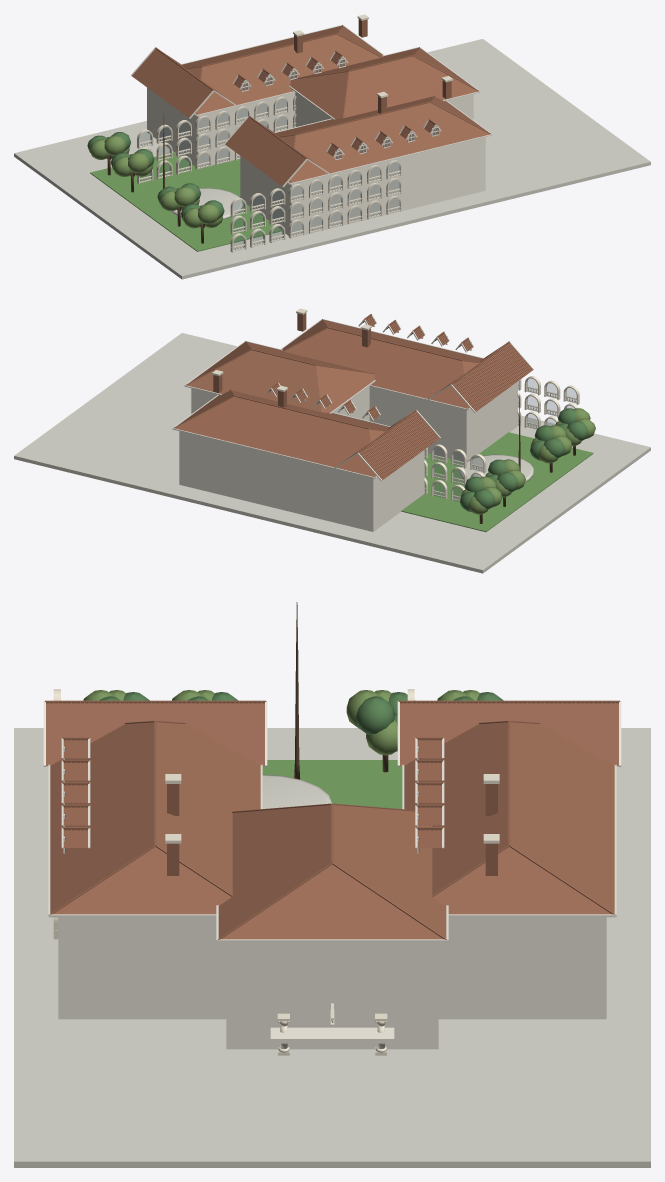
Rendered from galle-face-hotel.glb.
3 views of the same model, one above another, from view 1: azimuth 30°, elevation 25°; view 2: azimuth 150°, elevation 25°; view 3: azimuth 270°, elevation 25° (orthographic). The views are drawn at different scales.
Parts seen in each view (by area): view 1: 01 Seafront grounds, sea wall and pool / Limestone, 04 Victorian hipped roofs, gables and dormers / Terracotta, 03 Ocean wings / South wing / Colonial Cream, 01 Seafront grounds, sea wall and pool / Lawn Green, 04 Victorian hipped roofs, gables and dormers / Terracotta.0, 03 Ocean wings / North wing / Colonial Cream, 03 Ocean wings / South wing / Colonial Buff, 03 Ocean wings / North wing / Colonial Buff, 04 Victorian hipped roofs, gables and dormers / Ivory, 01 Seafront grounds, sea wall and pool / Leaves light, 03 Ocean wings / South wing / Glass shade, 03 Ocean wings / North wing / Glass shade (+5 smaller); view 2: 04 Victorian hipped roofs, gables and dormers / Terracotta, 01 Seafront grounds, sea wall and pool / Limestone, 03 Ocean wings / North wing / Colonial Cream, 01 Seafront grounds, sea wall and pool / Lawn Green, 03 Ocean wings / South wing / Colonial Cream, 04 Victorian hipped roofs, gables and dormers / Terracotta.0, 01 Seafront grounds, sea wall and pool / Leaves, 04 Victorian hipped roofs, gables and dormers / Ivory, 01 Seafront grounds, sea wall and pool / Leaves light, 03 Ocean wings / North wing / Colonial Buff, 03 Ocean wings / South wing / Colonial Buff, 02 Central entrance pavilion and porte-cochere / Colonial Cr (+3 smaller); view 3: 01 Seafront grounds, sea wall and pool / Limestone, 04 Victorian hipped roofs, gables and dormers / Terracotta, 02 Central entrance pavilion and porte-cochere / Colonial Cr, 03 Ocean wings / North wing / Colonial Cream, 03 Ocean wings / South wing / Colonial Cream, 04 Victorian hipped roofs, gables and dormers / Terracotta.0, 04 Victorian hipped roofs, gables and dormers / Ivory, 01 Seafront grounds, sea wall and pool / Lawn Green, 01 Seafront grounds, sea wall and pool / Leaves light, 01 Seafront grounds, sea wall and pool / Leaves, 01 Seafront grounds, sea wall and pool / Limestone.001.
Boxes of the visible parts, x1,y1,x2,y2 form: 01 Seafront grounds, sea wall and pool / Limestone: [14, 39, 650, 279]; 04 Victorian hipped roofs, gables and dormers / Terracotta: [132, 19, 491, 186]; 03 Ocean wings / South wing / Colonial Cream: [240, 137, 485, 237]; 01 Seafront grounds, sea wall and pool / Lawn Green: [90, 152, 282, 251]; 04 Victorian hipped roofs, gables and dormers / Terracotta.0: [132, 49, 434, 185]; 03 Ocean wings / North wing / Colonial Cream: [147, 87, 295, 167]; 03 Ocean wings / South wing / Colonial Buff: [230, 160, 401, 252]; 03 Ocean wings / North wing / Colonial Buff: [137, 95, 296, 184]; 04 Victorian hipped roofs, gables and dormers / Ivory: [131, 24, 492, 187]; 01 Seafront grounds, sea wall and pool / Leaves light: [89, 135, 222, 228]; 03 Ocean wings / South wing / Glass shade: [233, 162, 399, 249]; 03 Ocean wings / North wing / Glass shade: [140, 99, 286, 181]; 04 Victorian hipped roofs, gables and dormers / Terracotta: [173, 313, 532, 480]; 01 Seafront grounds, sea wall and pool / Limestone: [14, 333, 650, 573]; 03 Ocean wings / North wing / Colonial Cream: [179, 431, 424, 531]; 01 Seafront grounds, sea wall and pool / Lawn Green: [401, 432, 593, 531]; 03 Ocean wings / South wing / Colonial Cream: [369, 381, 517, 461]; 04 Victorian hipped roofs, gables and dormers / Terracotta.0: [272, 316, 532, 479]; 01 Seafront grounds, sea wall and pool / Leaves: [460, 408, 588, 511]; 04 Victorian hipped roofs, gables and dormers / Ivory: [172, 314, 533, 481]; 01 Seafront grounds, sea wall and pool / Leaves light: [460, 408, 595, 514]; 03 Ocean wings / North wing / Colonial Buff: [424, 444, 486, 501]; 03 Ocean wings / South wing / Colonial Buff: [517, 376, 579, 428]; 02 Central entrance pavilion and porte-cochere / Colonial Cr: [191, 386, 369, 421]; 01 Seafront grounds, sea wall and pool / Limestone: [14, 728, 650, 1167]; 04 Victorian hipped roofs, gables and dormers / Terracotta: [45, 700, 619, 939]; 02 Central entrance pavilion and porte-cochere / Colonial Cr: [226, 942, 438, 1049]; 03 Ocean wings / North wing / Colonial Cream: [438, 917, 606, 1019]; 03 Ocean wings / South wing / Colonial Cream: [58, 917, 226, 1019]; 04 Victorian hipped roofs, gables and dormers / Terracotta.0: [44, 701, 620, 847]; 04 Victorian hipped roofs, gables and dormers / Ivory: [43, 701, 621, 942]; 01 Seafront grounds, sea wall and pool / Lawn Green: [262, 760, 402, 808]; 01 Seafront grounds, sea wall and pool / Leaves light: [83, 690, 480, 755]; 01 Seafront grounds, sea wall and pool / Leaves: [99, 692, 503, 751]; 01 Seafront grounds, sea wall and pool / Limestone.001: [262, 774, 331, 808].
Bounding box in the file's own units: 116 × 23 × 72.
